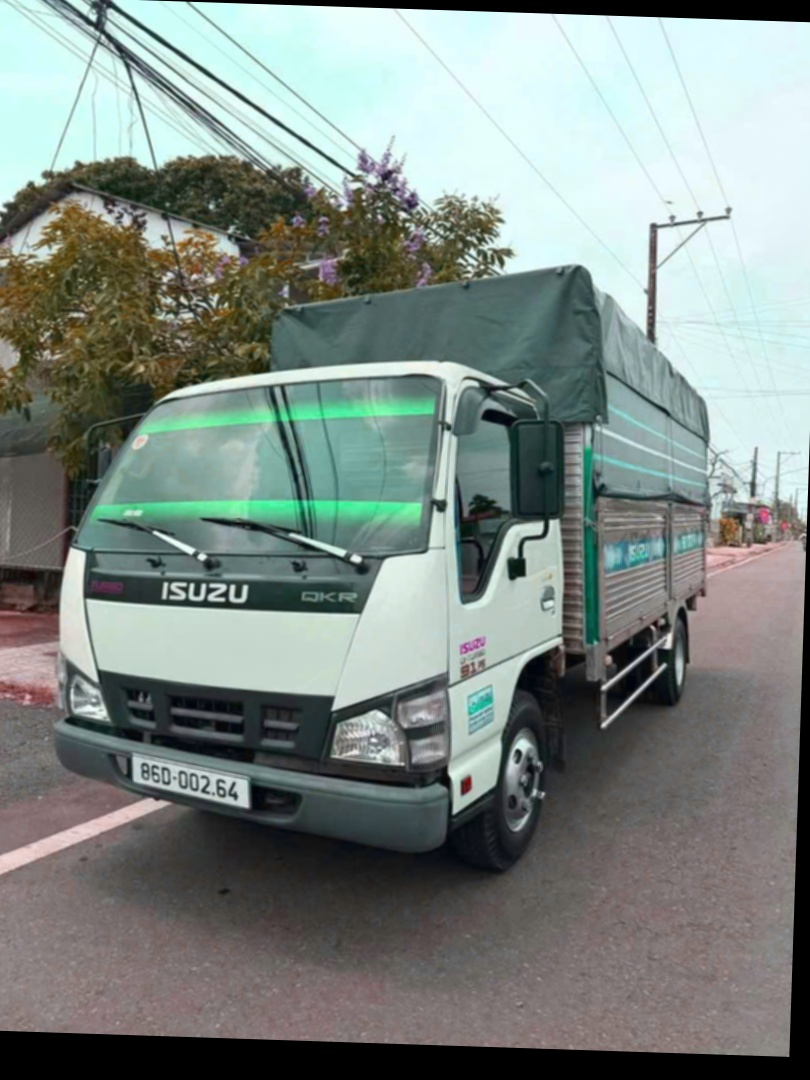Bien-so: (150, 760, 265, 821)
